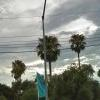Palm tree: (33, 27, 94, 73)
